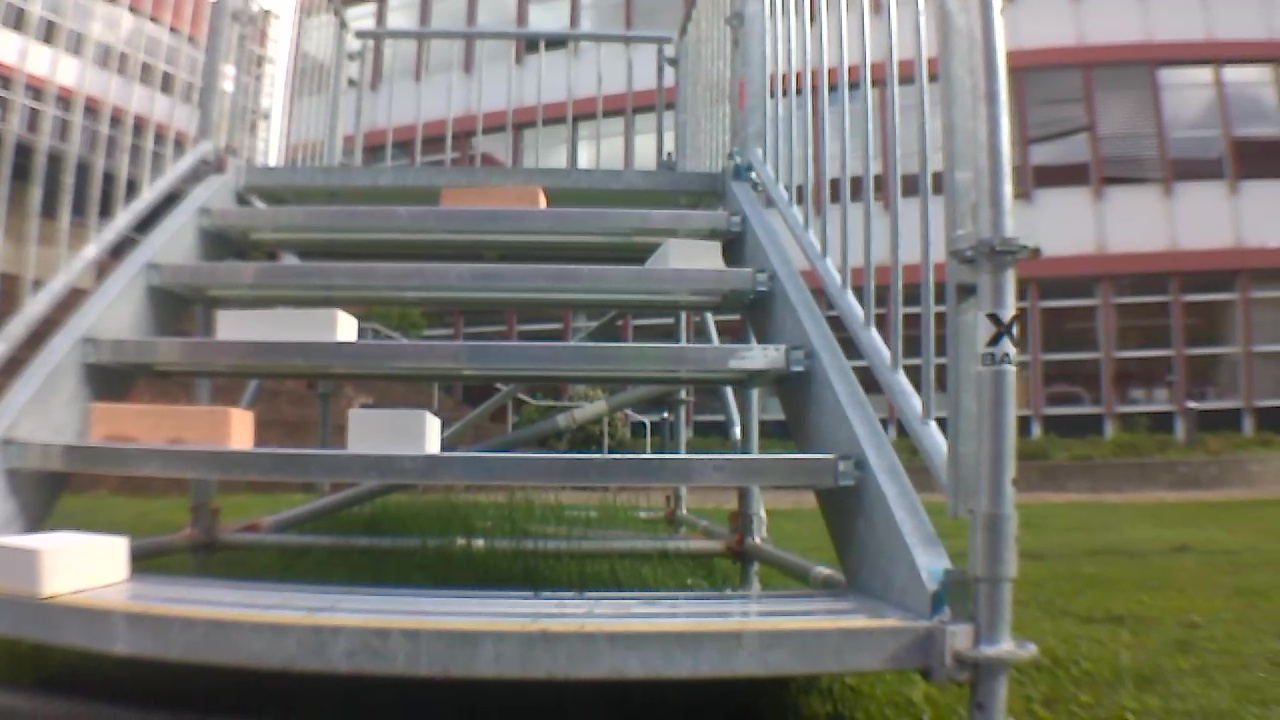brick: (1, 528, 128, 594), (87, 404, 251, 448), (216, 309, 356, 340), (351, 410, 439, 452), (439, 187, 544, 208), (645, 239, 719, 266)
edge: (3, 605, 929, 675), (6, 439, 863, 484), (85, 338, 812, 369), (152, 264, 772, 291), (202, 206, 748, 230), (246, 165, 720, 190)
stairs: (4, 5, 1040, 713)
steps: (4, 158, 935, 689)
